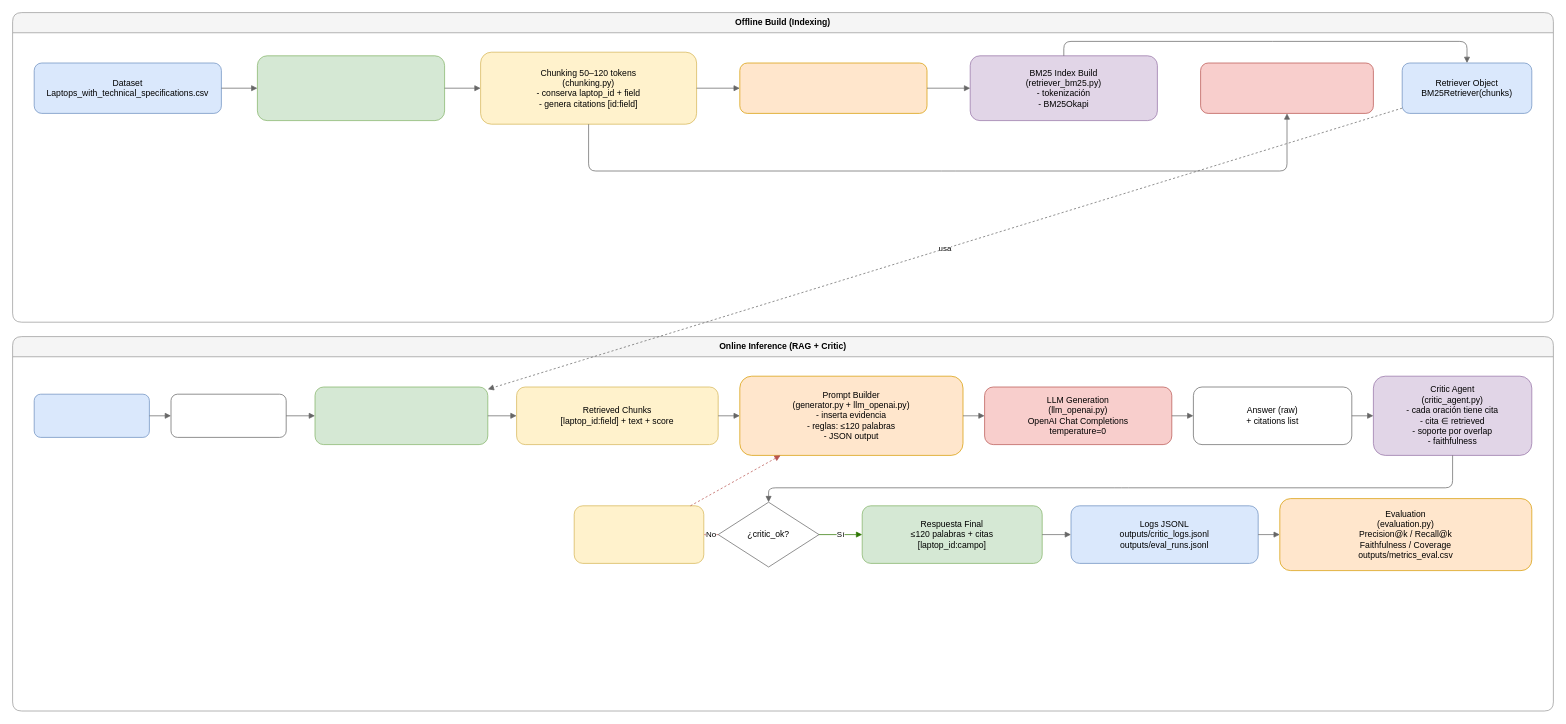
The diagram is 1566 pixels wide and 724 high, and some of its shapes have lost their labels. The shapes that lost their labels are listed below. From the top down, each one's centre as x and y in pixels, then its label:
At pixel 351 88: "Ingesta + Normalización (data_loader.py) - columnas - NA - subset N".
At pixel 833 87: "Chunk Store (lista/dict) chunk_id, text, field, laptop_id".
At pixel 1286 87: "Artifacts outputs/index_preview.csv".
At pixel 91 415: "Usuario".
At pixel 228 415: "Query".
At pixel 401 415: "Retrieve Top-K (3–5) (pipeline.py) retriever.search(query)".
At pixel 638 534: "Retry (máx 2) Reglas más estrictas (pipeline.py)".
